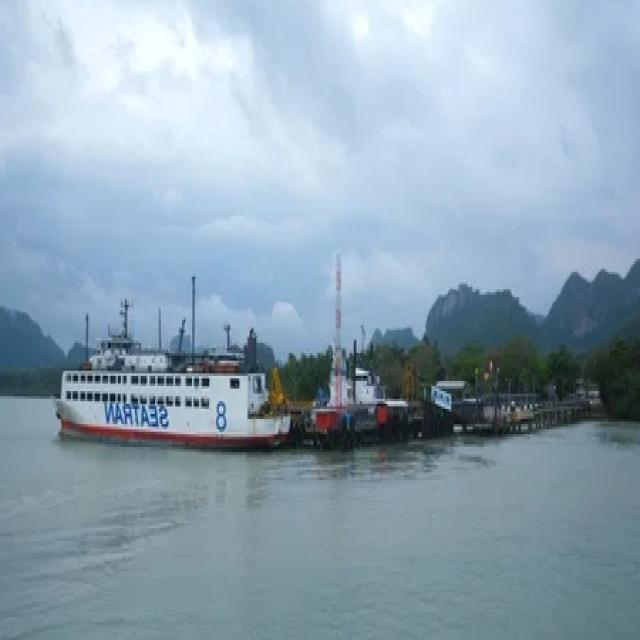passenger ship: (21, 307, 275, 449)
